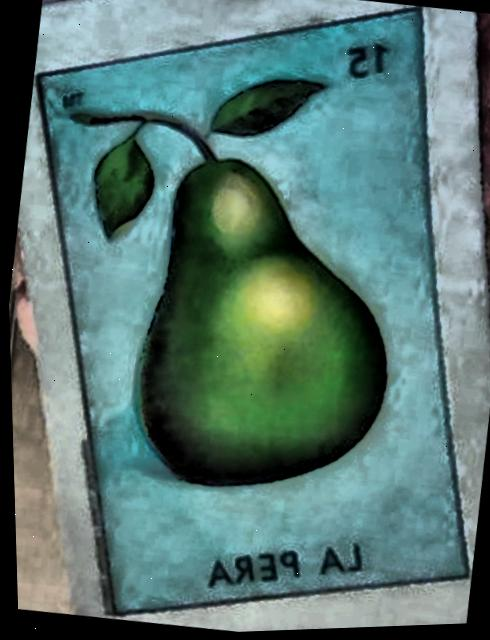La Pera: (40, 16, 465, 613)
